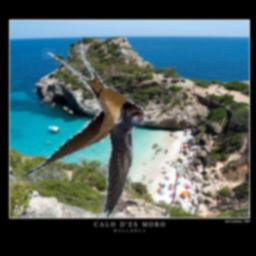Swallow: (20, 45, 144, 219)
